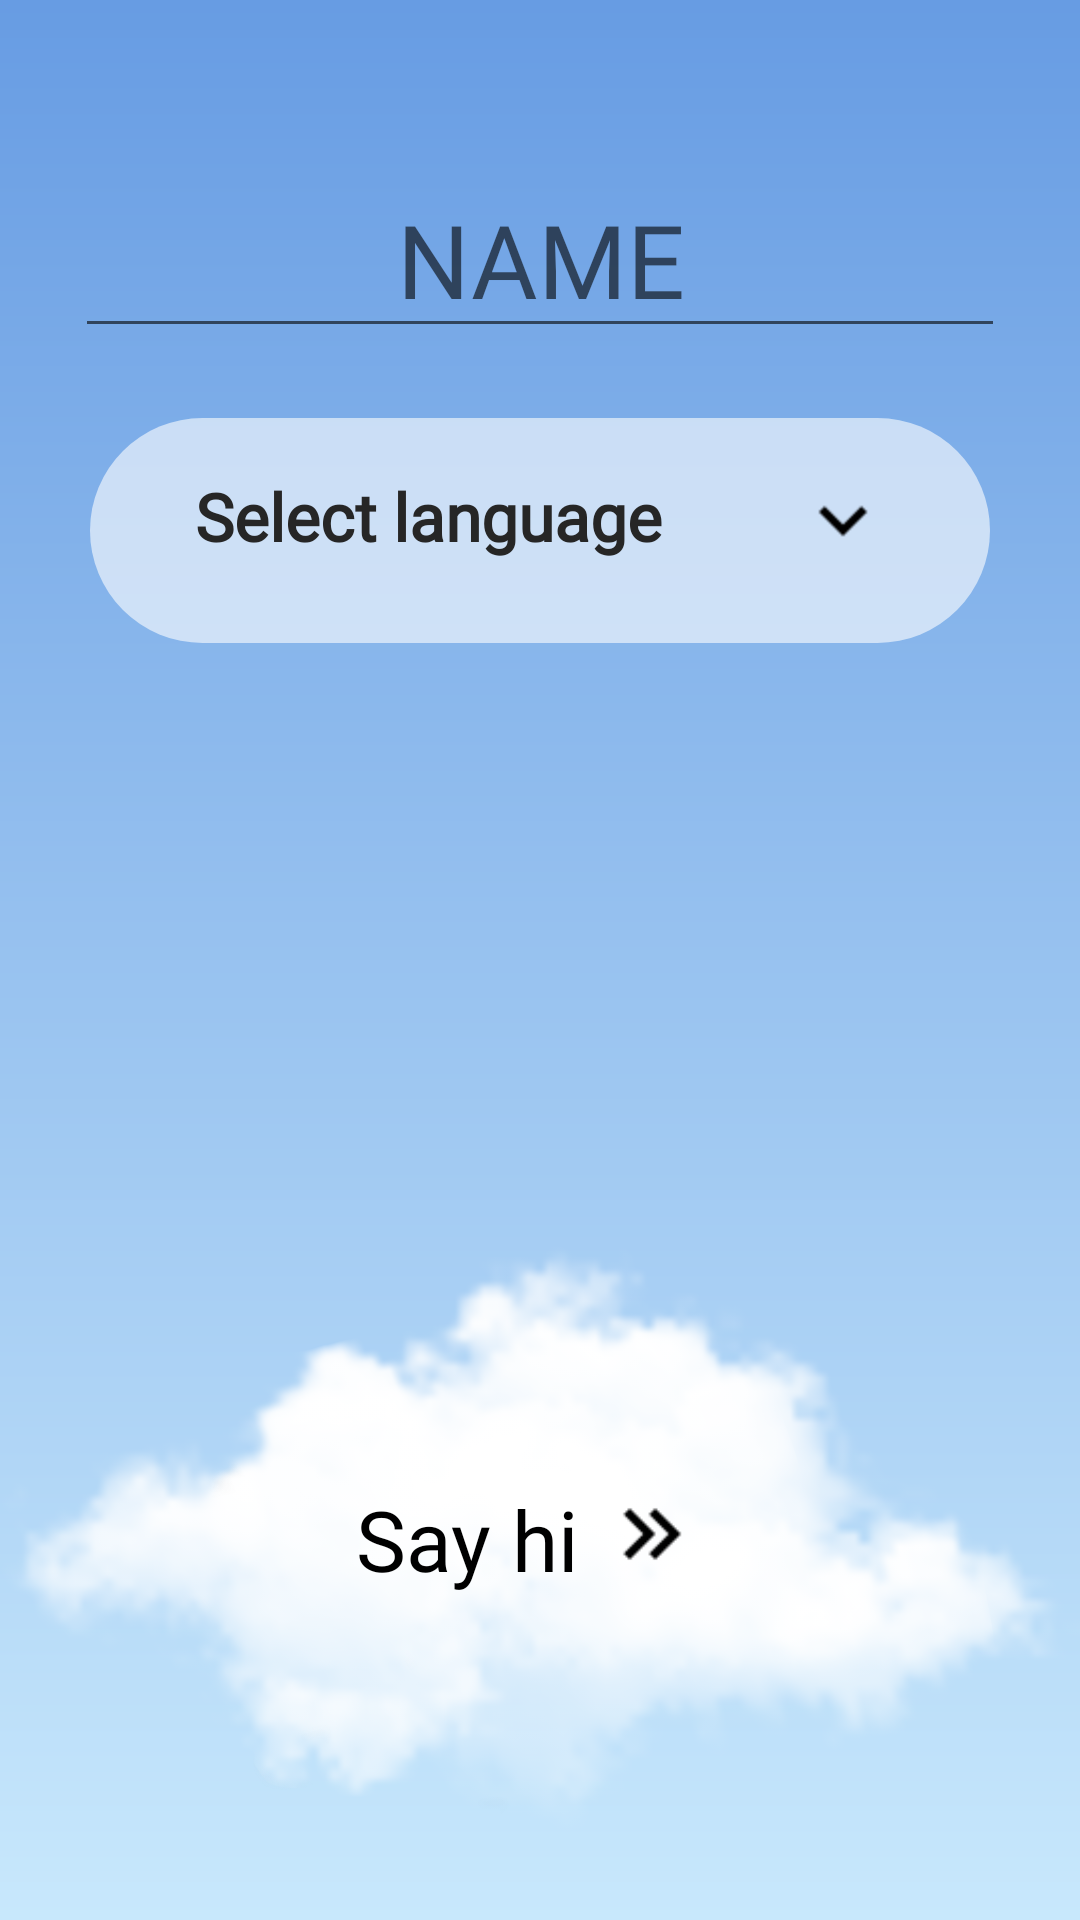

Where icons sit on this 1080*1920 app screen, as (x1, y1, x2, y2):
Double right chevron: (623, 1508, 681, 1560)
